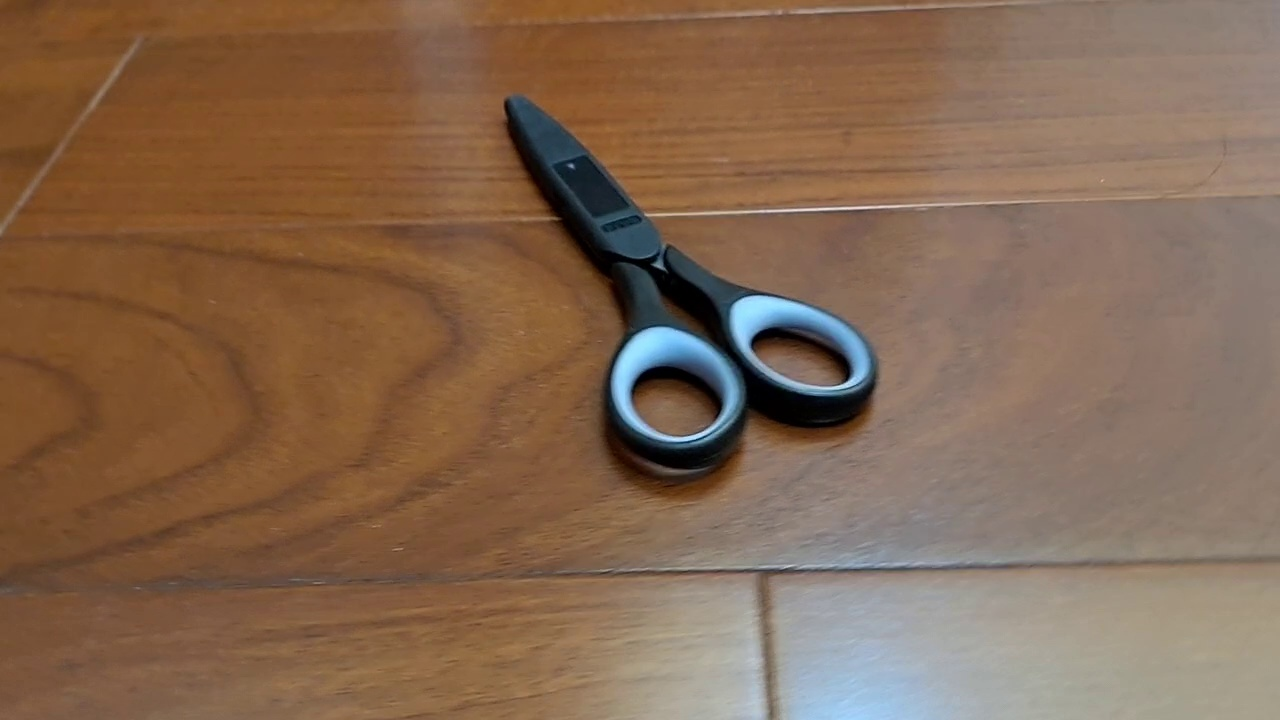scissors: (502, 92, 880, 471)
